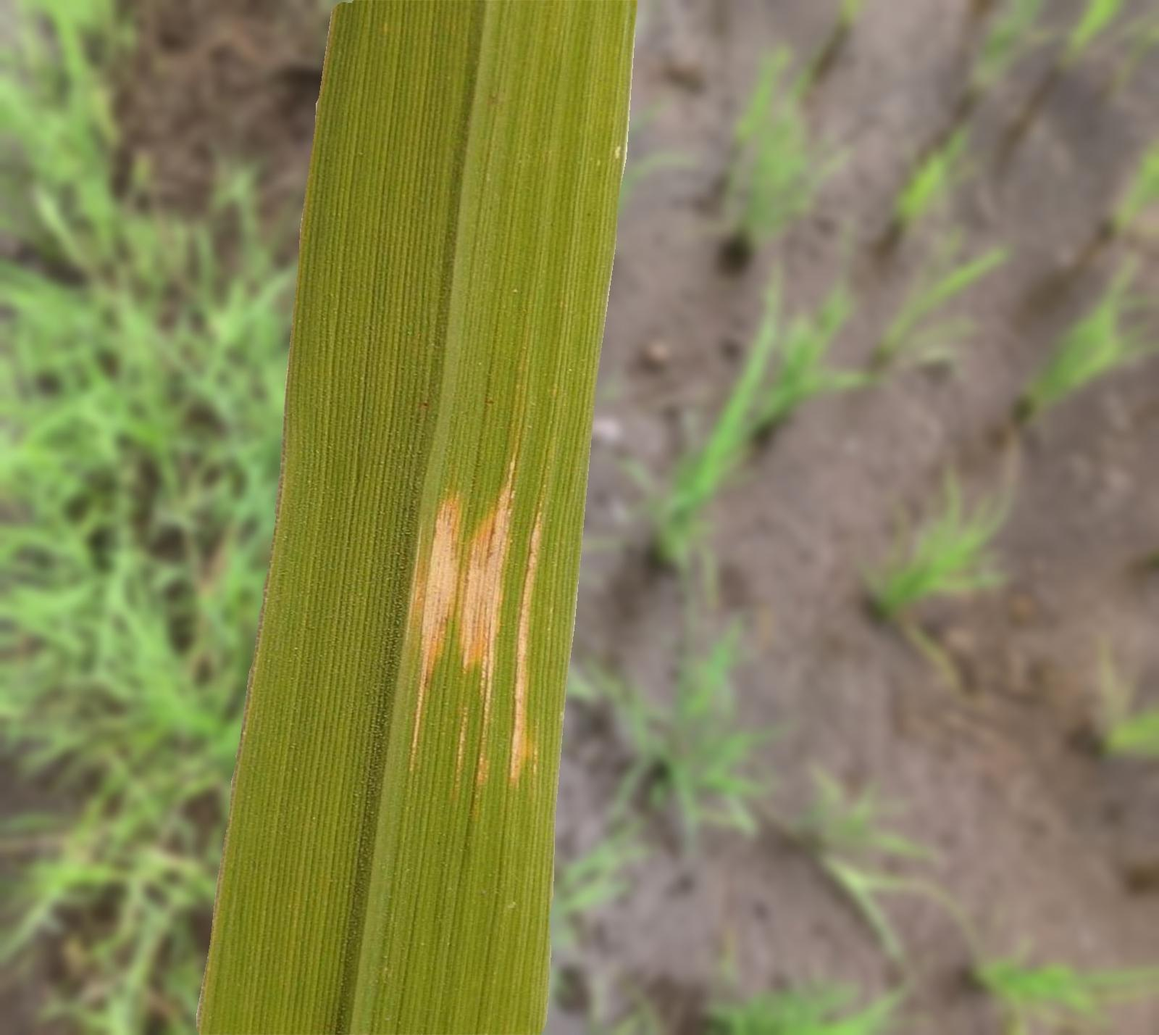BLS: (458, 457, 513, 784), (411, 494, 460, 777), (509, 507, 541, 785), (455, 705, 466, 797)
LEAF: (196, 0, 637, 1034)
